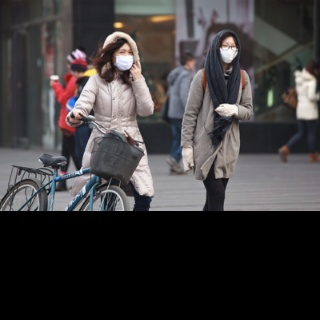with_mask: (114, 48, 134, 71), (220, 41, 239, 64)
